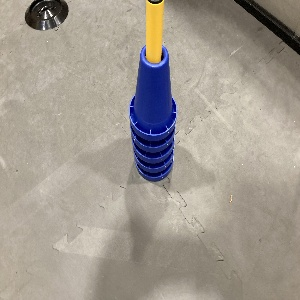Blue_5: (126, 38, 180, 186)
